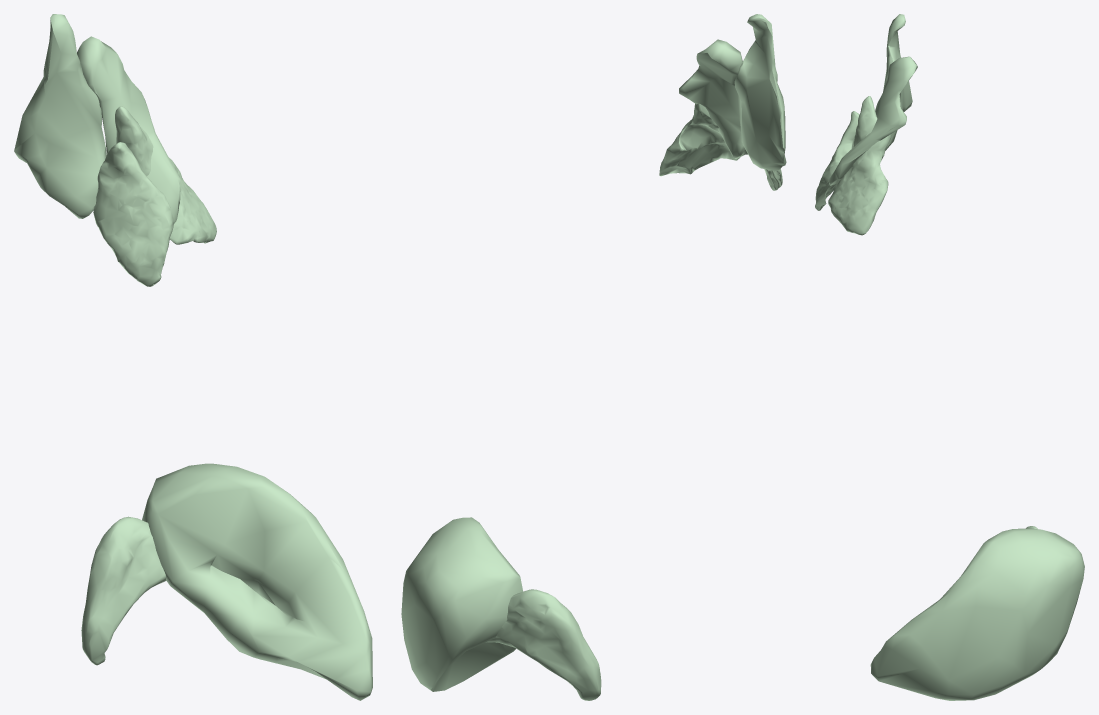
The model's file is endocrine-thorax.lo.glb.
The picture shows the model from 3 angles, left to right: view 1: azimuth 30°, elevation 25°; view 2: azimuth 150°, elevation 25°; view 3: azimuth 270°, elevation 25°; orthographic projection. The views are drawn at different scales.
Parts seen in each view (by area): view 1: FJ2561, FJ3151, ZA-right-lobe-of-thymus, FJ3129, FJ3150, ZA-left-lobe-of-thymus; view 2: FJ2561, FJ3129, FJ3151, FJ3150, ZA-left-lobe-of-thymus; view 3: FJ2561, ZA-left-lobe-of-thymus, FJ3150, ZA-right-lobe-of-thymus, FJ3151.
Boxes of the visible parts, left/top/right/bottom form: FJ2561: left=142, top=463, right=372, bottom=700; FJ3151: left=14, top=14, right=106, bottom=218; ZA-right-lobe-of-thymus: left=93, top=142, right=173, bottom=286; FJ3129: left=81, top=516, right=165, bottom=665; FJ3150: left=77, top=36, right=180, bottom=223; ZA-left-lobe-of-thymus: left=115, top=106, right=216, bottom=244; FJ2561: left=401, top=517, right=522, bottom=691; FJ3129: left=486, top=589, right=601, bottom=700; FJ3151: left=734, top=14, right=786, bottom=171; FJ3150: left=679, top=39, right=747, bottom=158; ZA-left-lobe-of-thymus: left=659, top=103, right=740, bottom=176; FJ2561: left=870, top=528, right=1084, bottom=700; ZA-left-lobe-of-thymus: left=828, top=96, right=891, bottom=235; FJ3150: left=828, top=56, right=917, bottom=185; ZA-right-lobe-of-thymus: left=815, top=111, right=859, bottom=210; FJ3151: left=883, top=14, right=912, bottom=150.
Size of the model in its own units: 0.1386 by 0.2779 by 0.1189.
